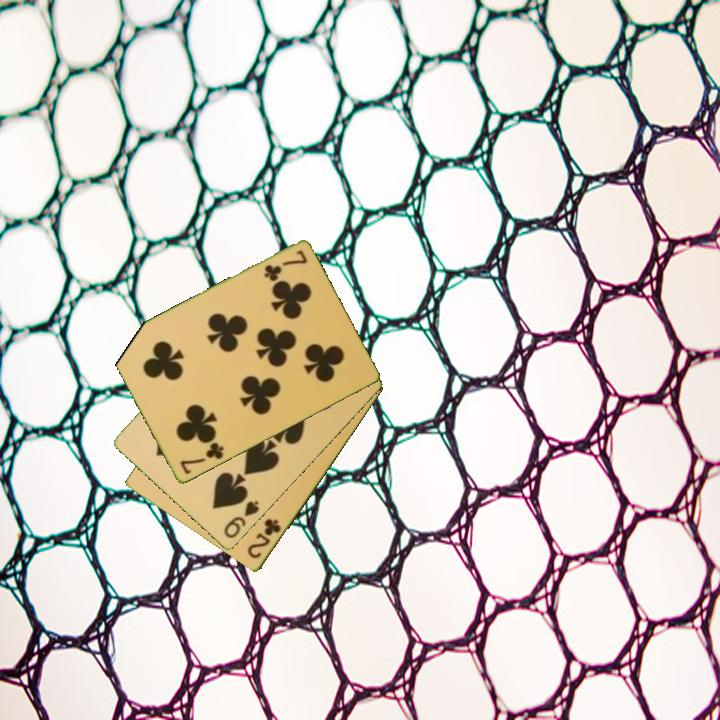2c: (244, 515, 284, 562)
7c: (177, 439, 227, 478), (261, 247, 310, 284)
9s: (220, 497, 262, 541)
